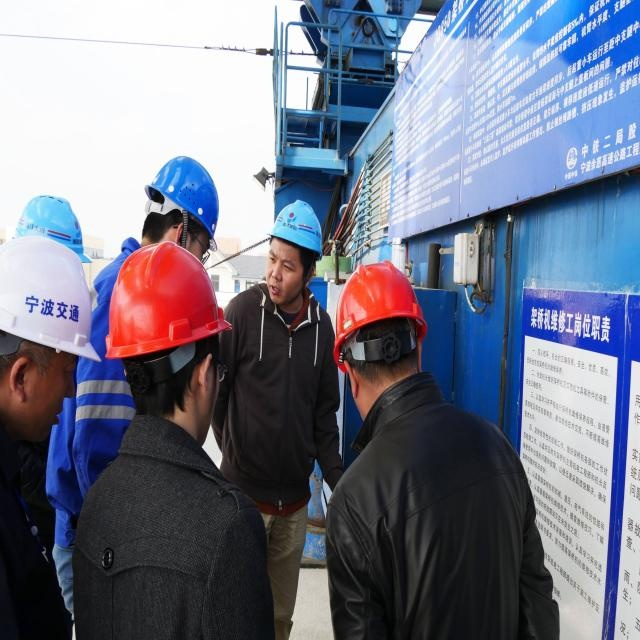Con_Casco: (115, 245, 220, 424), (339, 263, 429, 410), (266, 198, 322, 298)
